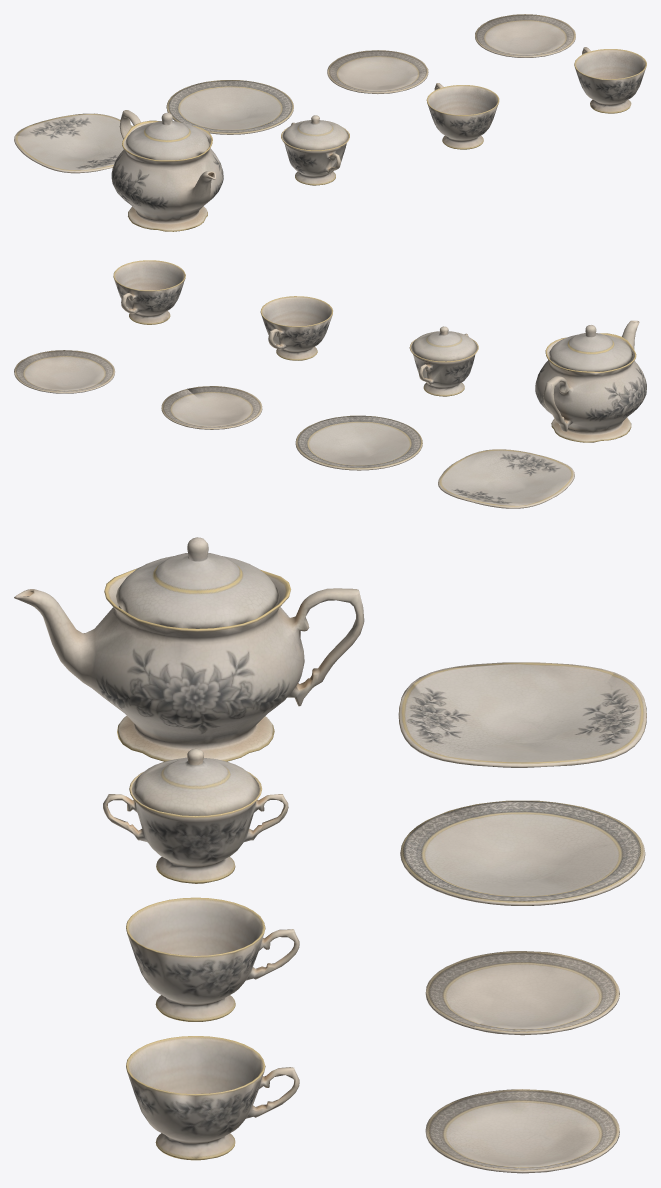
The model's file is tea_set_01.glb.
3 views of the same model, one above another, from view 1: azimuth 30°, elevation 25°; view 2: azimuth 150°, elevation 25°; view 3: azimuth 270°, elevation 25° (orthographic). The views are drawn at different scales.
Visible parts, largest first — view 1: tea_set_01_plate_large_square_01; view 2: tea_set_01_plate_large_square_01; view 3: tea_set_01_plate_large_square_01.
Boxes of the visible parts, box(x1,y1,x2,y2) form: tea_set_01_plate_large_square_01: box(14, 14, 646, 231); tea_set_01_plate_large_square_01: box(14, 260, 646, 508); tea_set_01_plate_large_square_01: box(14, 537, 646, 1173).
Size of the model in its own units: 0.9183 by 0.165 by 0.4839.
1 material, 1 textured.
